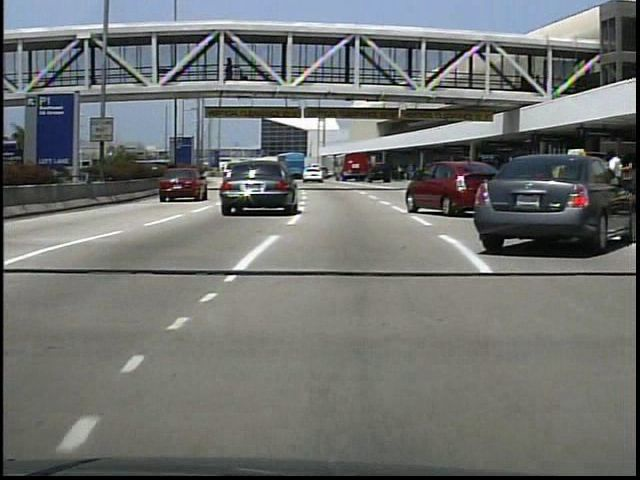person: (224, 56, 238, 84)
